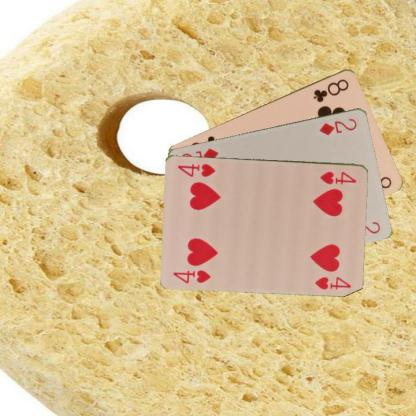2d: (317, 115, 358, 136)
4h: (317, 168, 358, 186), (171, 267, 212, 284)
8c: (310, 76, 350, 103)
